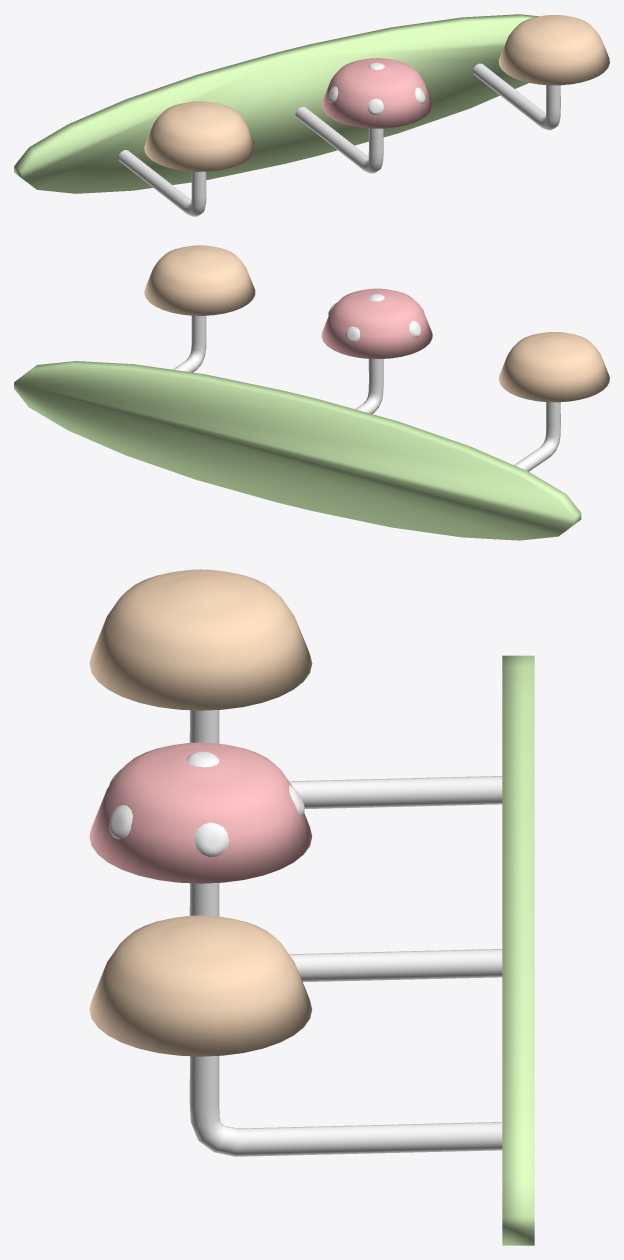
Rendered from NAULAKKO.fbx.
The picture shows the model from 3 angles, top to bottom: view 1: azimuth 30°, elevation 25°; view 2: azimuth 150°, elevation 25°; view 3: azimuth 270°, elevation 25°; orthographic projection. The views are drawn at different scales.
Visible parts, largest first — view 1: Cone.002; view 2: Cone.002; view 3: Cone.002.
Boxes of the visible parts, x1,y1,x2,y2 form: Cone.002: (14, 14, 609, 216); Cone.002: (14, 245, 609, 540); Cone.002: (89, 569, 534, 1245).
Bounding box in the file's own units: 1.37 × 0.3509 × 0.4718.
